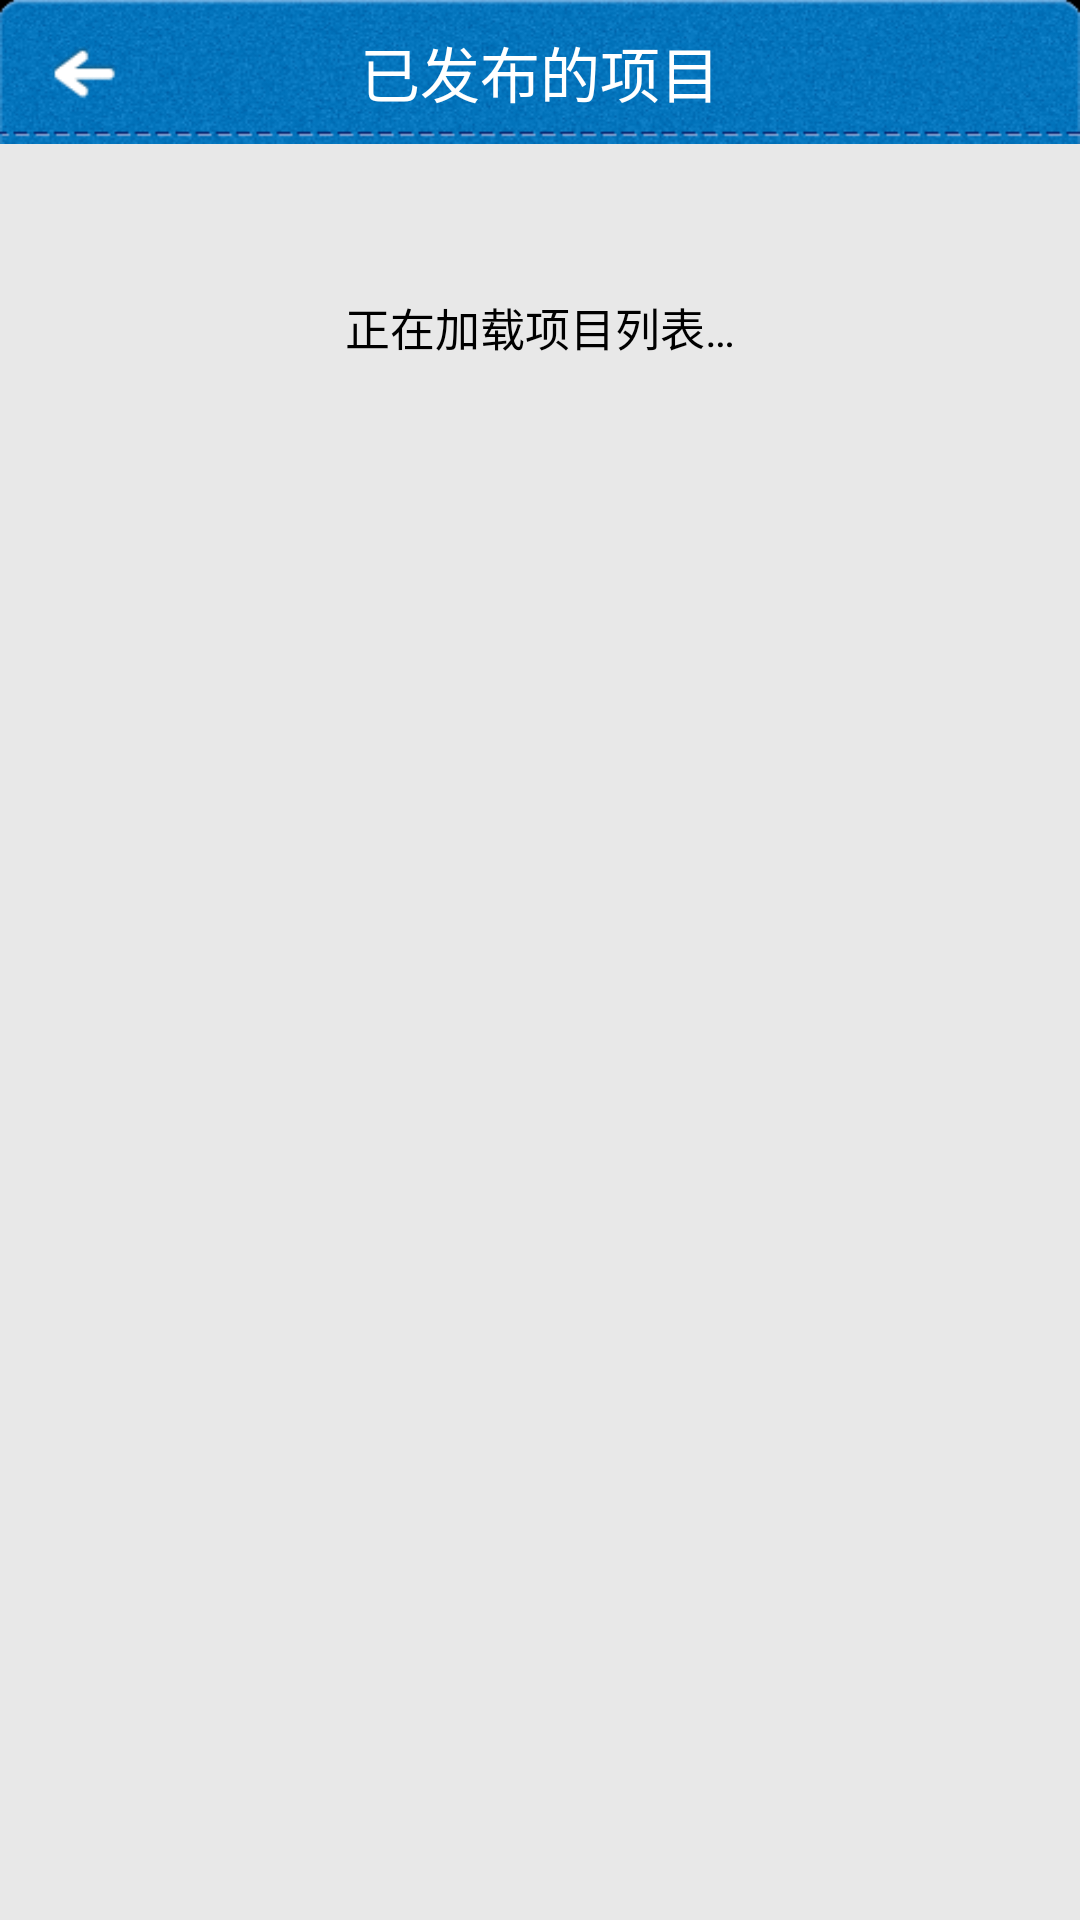

Icons on this 1080w x 1920h Android screen, each with the point to tap as [x,y]:
title back: [82,92]
